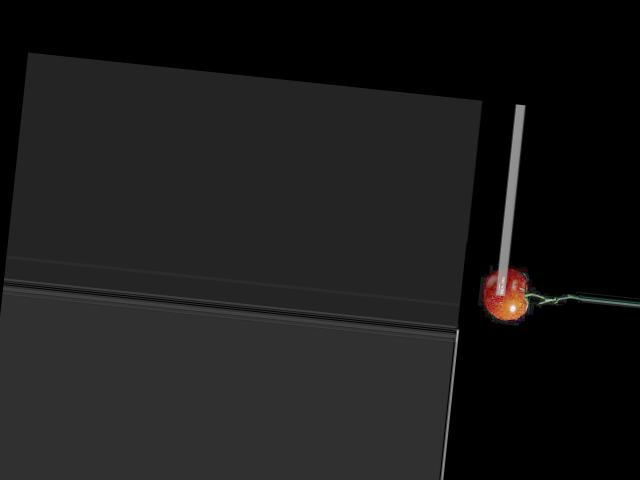tomato: (482, 267, 530, 321)
